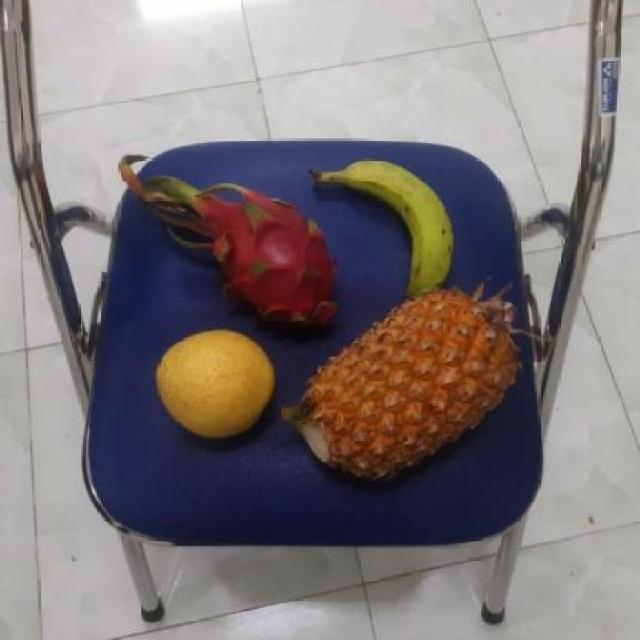banana: (331, 155, 460, 303)
dragon fruit: (200, 190, 342, 335)
pear: (151, 328, 280, 437)
pineapple: (297, 290, 525, 481)
